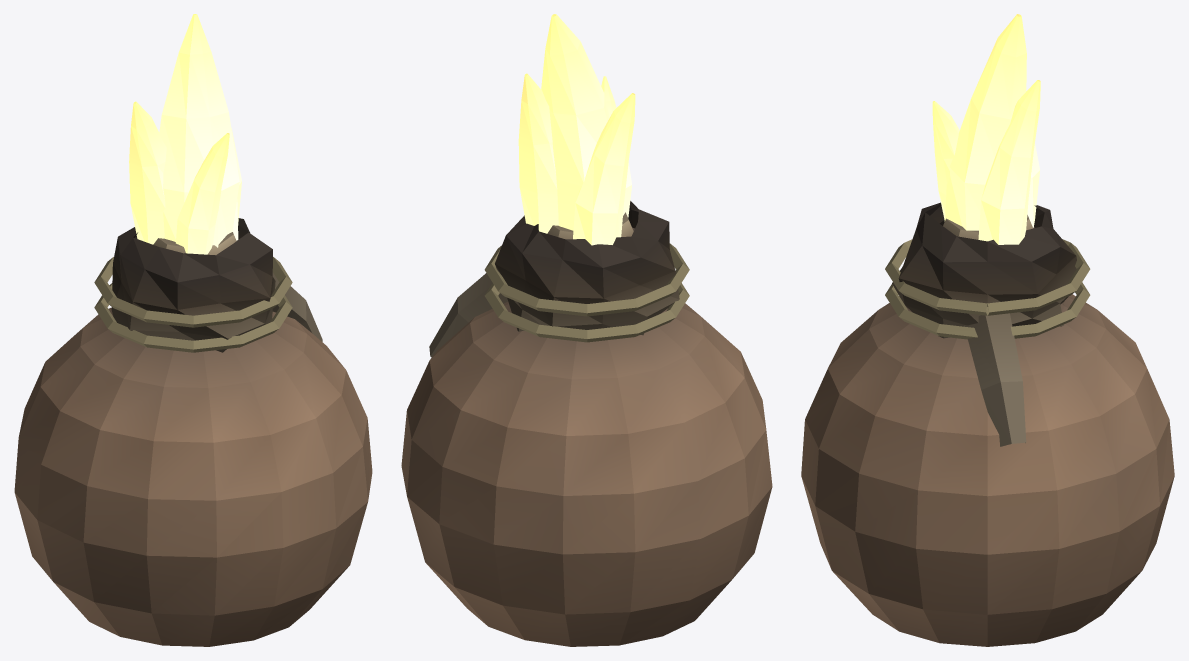
File: fire_pot_a.glb
3 views of the same model, side by side, from view 1: azimuth 30°, elevation 25°; view 2: azimuth 150°, elevation 25°; view 3: azimuth 270°, elevation 25° (orthographic). The views are drawn at different scales.
Parts seen in each view (by area): view 1: Pot, Flame; view 2: Pot, Flame; view 3: Pot, Flame.
Part boxes in pixels (box(x1,y1,x2,y2)): Pot: box(14, 218, 372, 646); Flame: box(129, 14, 241, 254); Pot: box(401, 201, 772, 646); Flame: box(518, 14, 635, 245); Pot: box(801, 202, 1174, 646); Flame: box(932, 14, 1040, 244).
Size of the model in its own units: 0.3 by 0.5386 by 0.2998.
